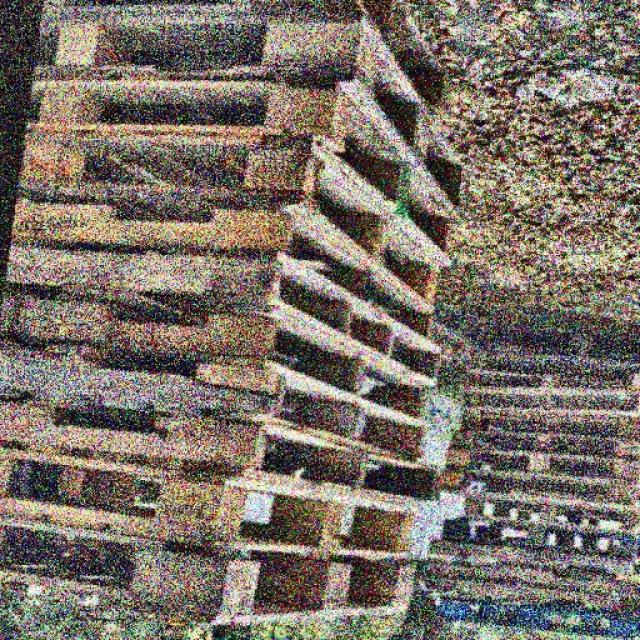non-igps: (37, 0, 475, 234), (15, 66, 461, 279), (8, 115, 448, 322), (0, 228, 448, 400), (4, 185, 441, 354), (0, 276, 437, 442), (0, 426, 446, 574), (0, 323, 437, 471), (0, 390, 451, 524), (0, 508, 425, 640), (407, 571, 640, 627), (344, 0, 453, 118), (410, 550, 640, 602), (431, 460, 640, 517), (420, 531, 640, 585), (428, 584, 640, 640), (435, 510, 640, 564), (459, 484, 640, 538), (436, 439, 640, 486), (451, 402, 640, 444), (464, 343, 639, 388), (469, 324, 640, 370), (456, 379, 640, 420), (444, 423, 640, 461), (456, 358, 640, 396)
